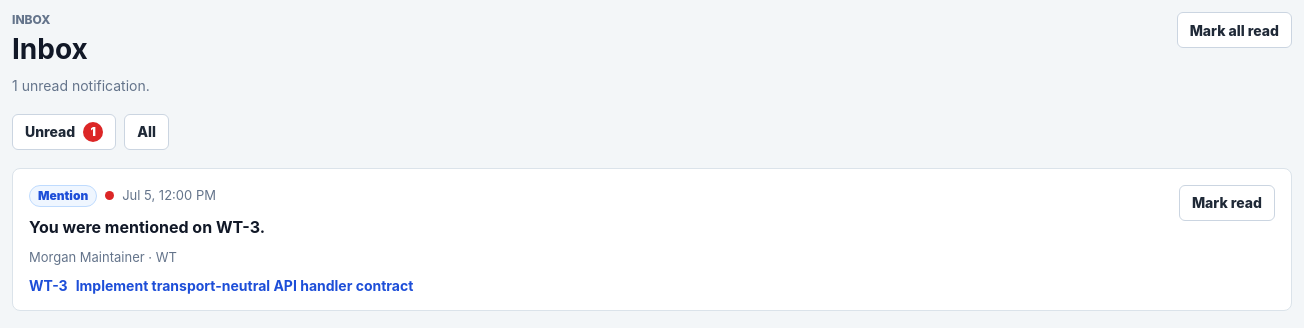
Test: InboxPageComponent › marks all unread notifications read
Click the button with class "header-action" at (1234, 30), box x1=1177 y1=12 x2=1292 y2=48
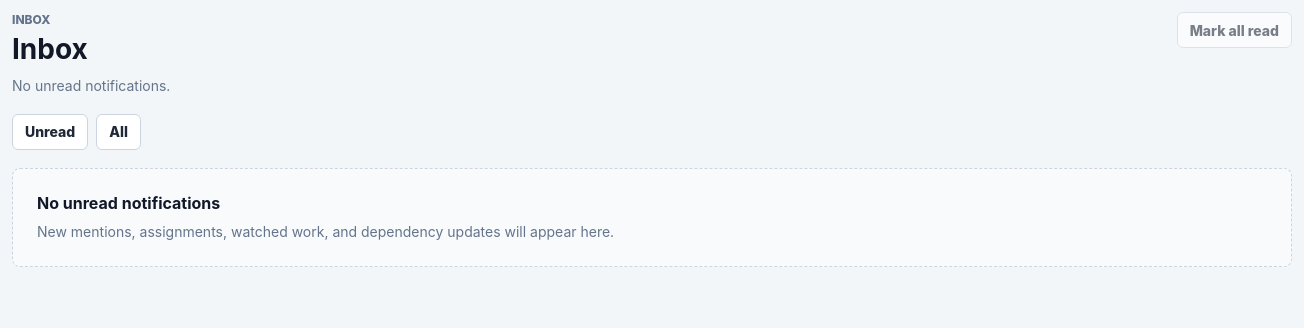
expect the text "No unread notifications" is shown: met, box x1=12 y1=77 x2=170 y2=94
expect the text "No unread notifications." is shown: met, box x1=12 y1=75 x2=170 y2=96
